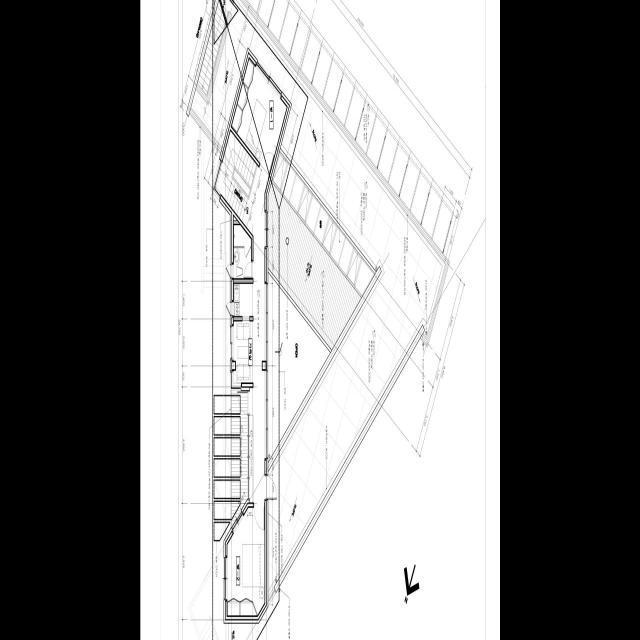background: (140, 0, 500, 640)
space_bedroom: (231, 58, 286, 175), (227, 507, 264, 616)
space_kitchen: (233, 284, 253, 317)
space_living_room: (233, 166, 268, 503)
space_other: (233, 216, 236, 220)
space_staircase: (216, 131, 257, 222), (197, 0, 229, 96)
space_toilet: (233, 225, 251, 278)
